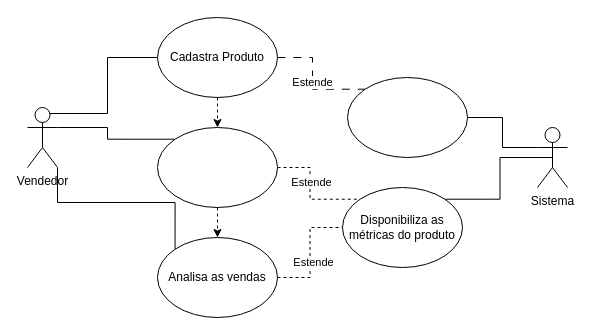
Image size: 591x335. Some labels were removed from this diagram. Each missing label, with the centre of its shape:
Disponibiliza o produto no catalogo: point 407,117
Gerencia Estoque: point 217,167
